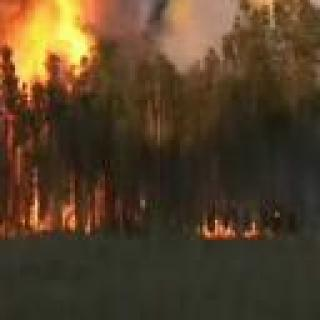fire: (0, 0, 97, 236), (195, 213, 268, 236)
